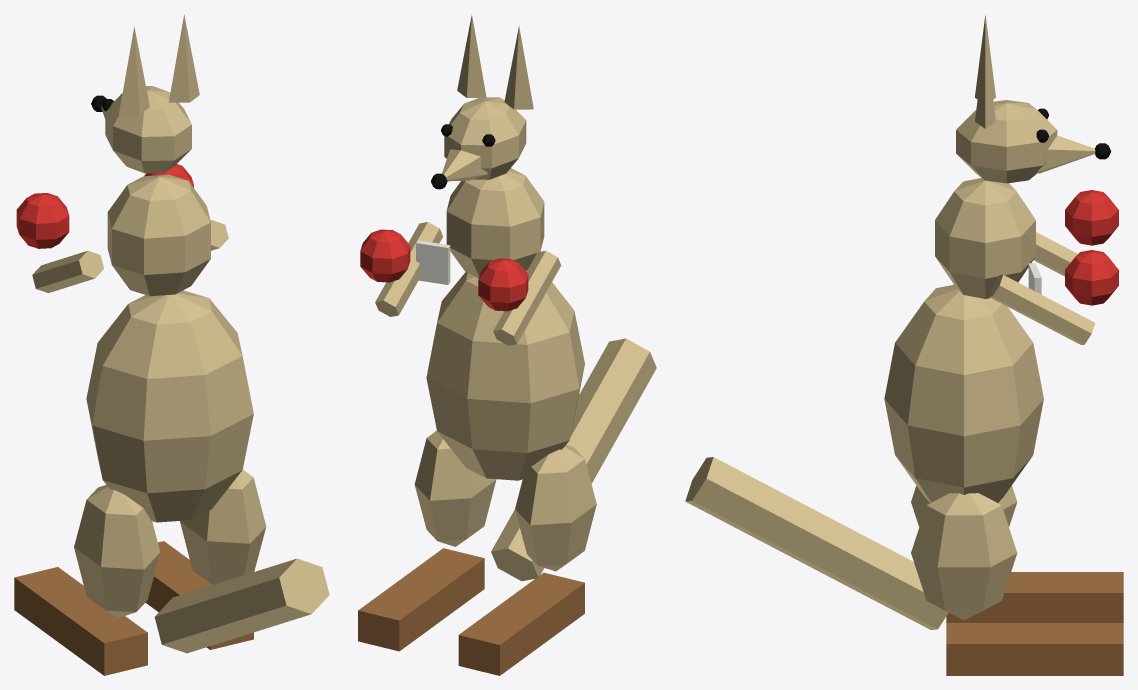
The model's file is enemy_kangaroo.glb.
3 views of the same model, side by side, from view 1: azimuth 30°, elevation 25°; view 2: azimuth 150°, elevation 25°; view 3: azimuth 270°, elevation 25° (orthographic). The views are drawn at different scales.
Parts seen in each view (by area): view 1: enemy_kangaroo; view 2: enemy_kangaroo; view 3: enemy_kangaroo.
Part boxes in pixels (x1,y1,x2,y2): enemy_kangaroo: (14, 15, 329, 675); enemy_kangaroo: (358, 14, 656, 675); enemy_kangaroo: (685, 14, 1123, 675).
Bounding box in the file's own units: 0.5522 × 1.91 × 1.24.
1 material, 1 textured.
